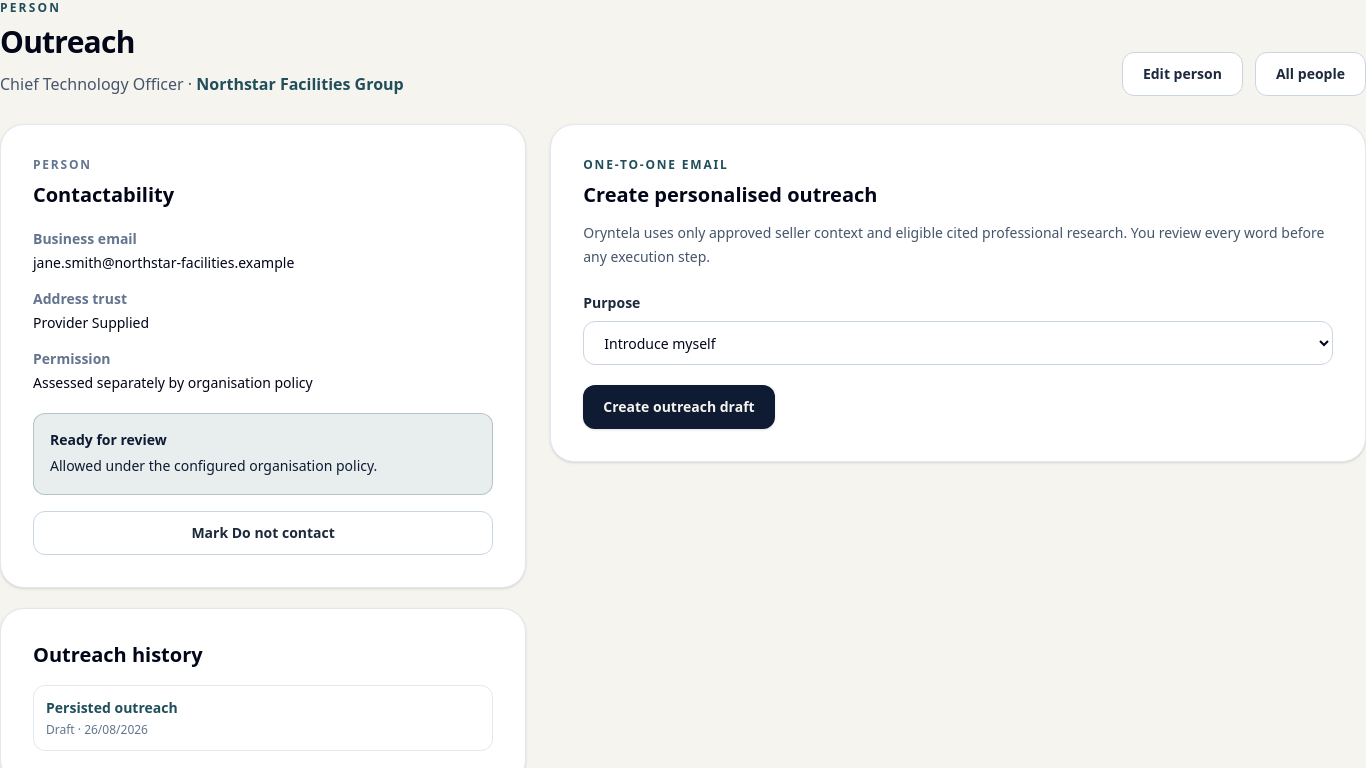
Test: ContactOutreachWorkspace › reopens persisted outreach from Contact history
Click the button "Persisted outreach". click: click(112, 708)
box: x1=46 y1=698 x2=178 y2=718
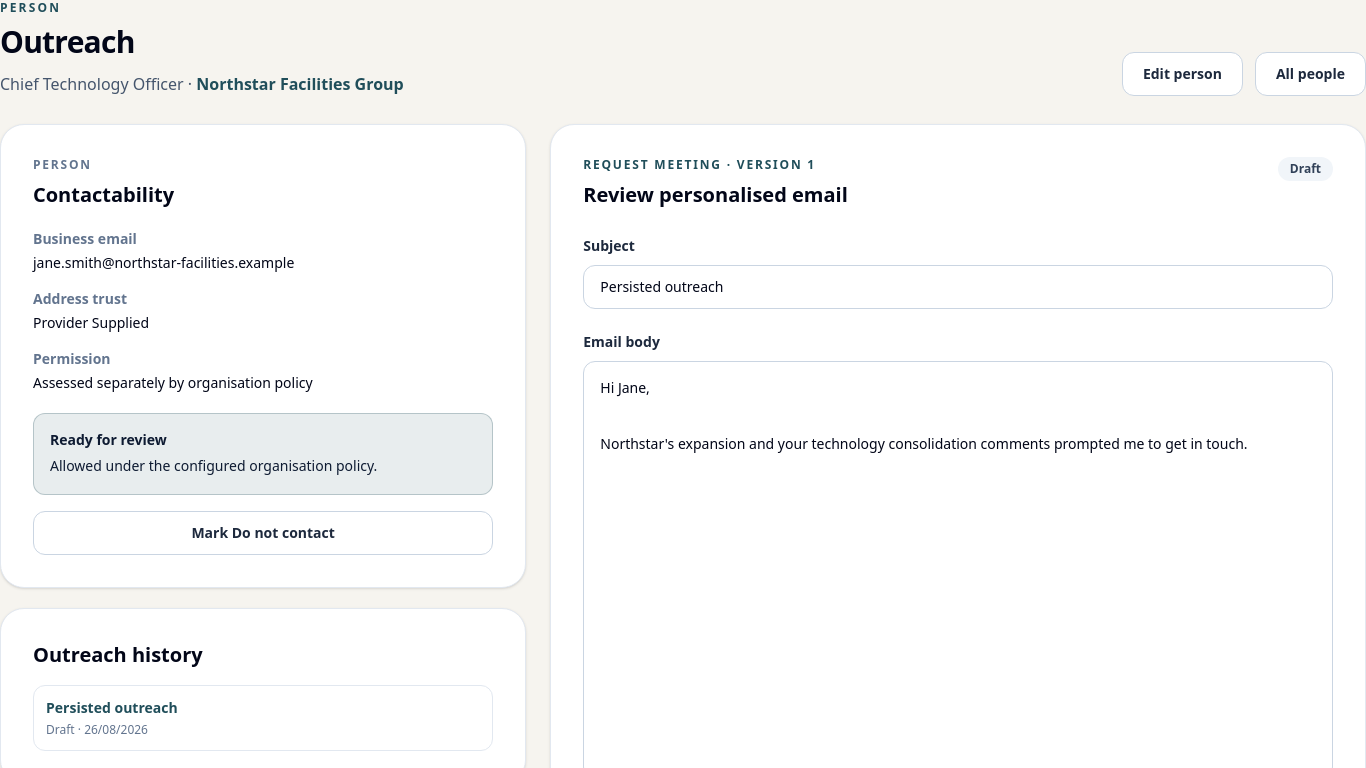
Now the heading "Review personalised email" is shown, box x1=583 y1=181 x2=848 y2=209
Now the field labelled "Subject" holds "Persisted outreach", box x1=583 y1=265 x2=1333 y2=309
